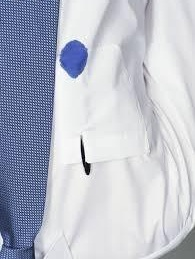ink: (61, 40, 89, 78)
